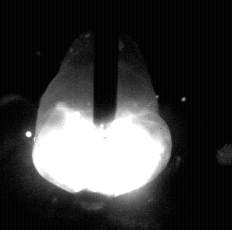arame: (94, 0, 118, 129)
poca: (31, 0, 172, 230)
